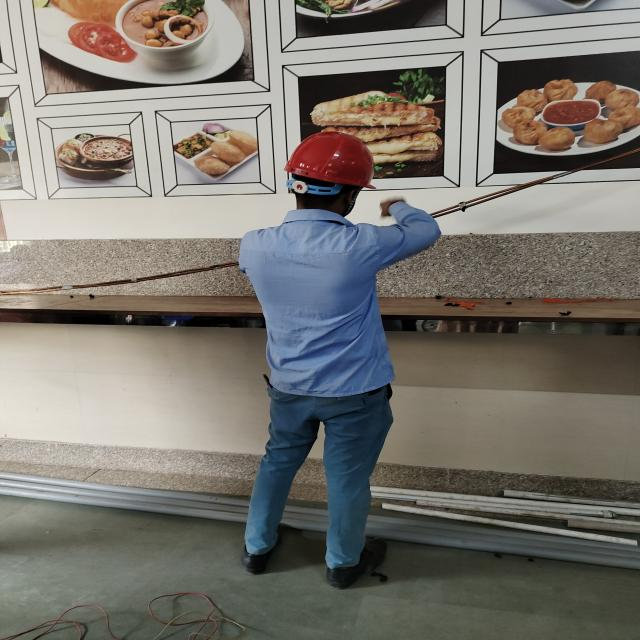no jacket: (240, 131, 391, 585)
